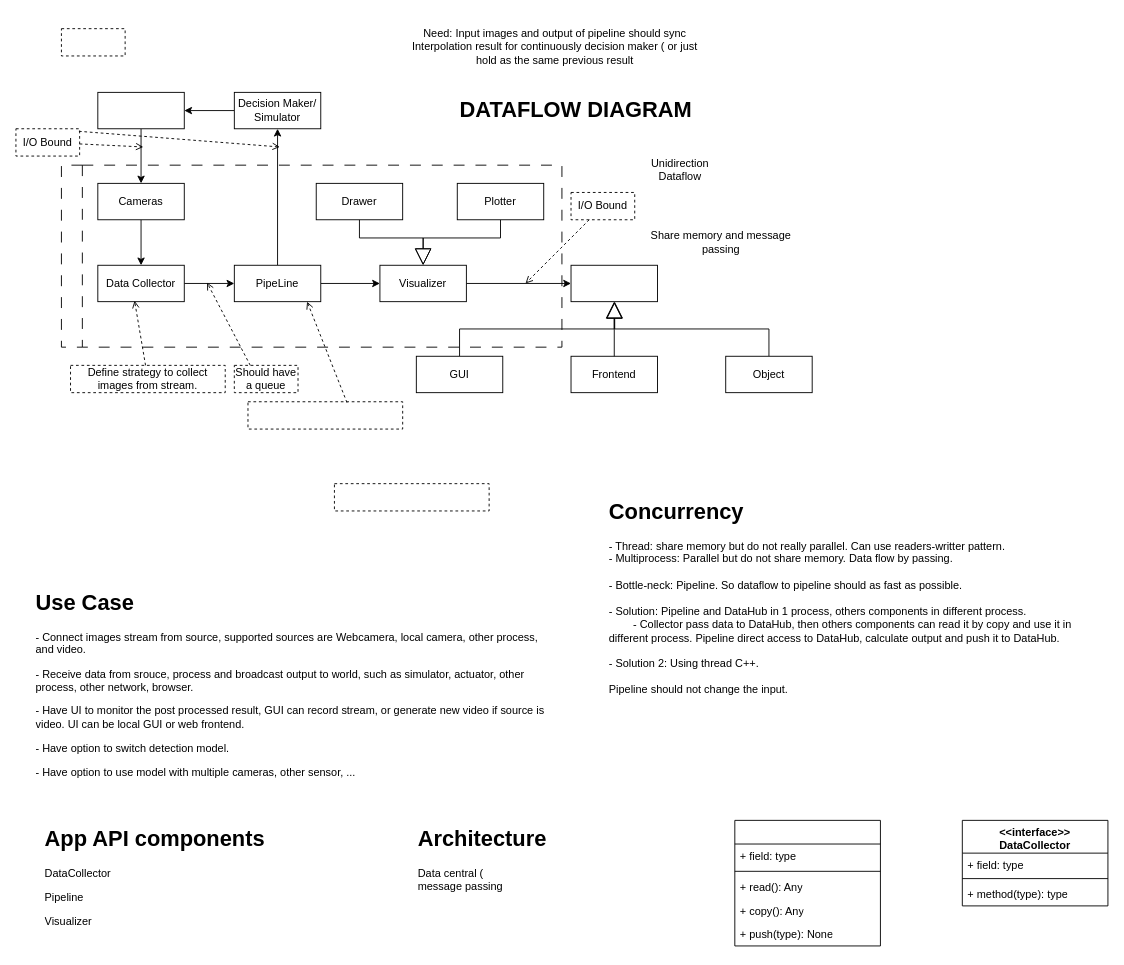
Some shapes in this 1124 by 965 pixel diagram are drawn without their labels. The shapes that lost their labels are listed below. From the top down, each one's box as (x1, y1, x2, y2) in pixels, then its label:
(61, 28, 125, 56): Task decomposition: Pipeline pattern
(97, 91, 184, 129): World/Simulator
(61, 164, 562, 347): App cores
(570, 264, 657, 302): UI
(247, 401, 403, 429): Process should independent with sending message
(334, 483, 489, 511): App API: Pi
(734, 819, 880, 946): DataHub
